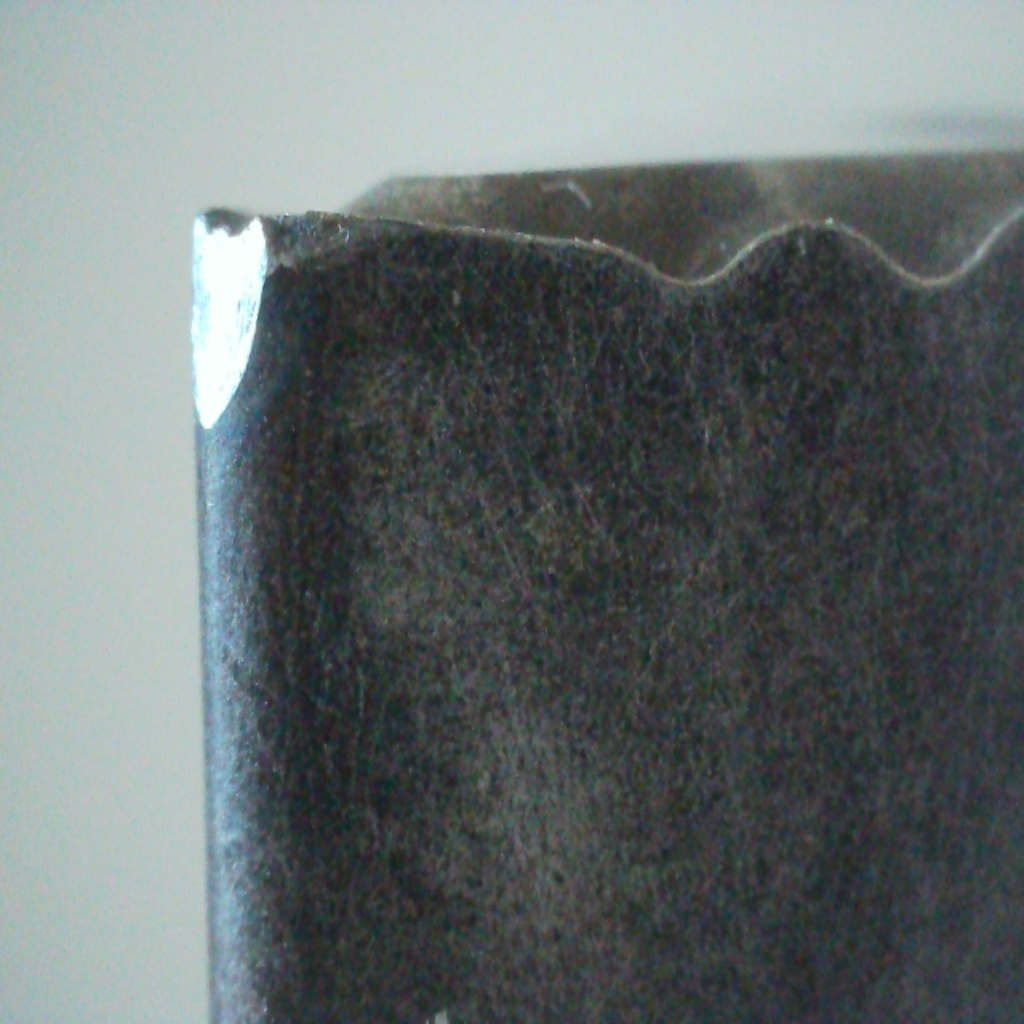flank_wear: (191, 211, 267, 436)
